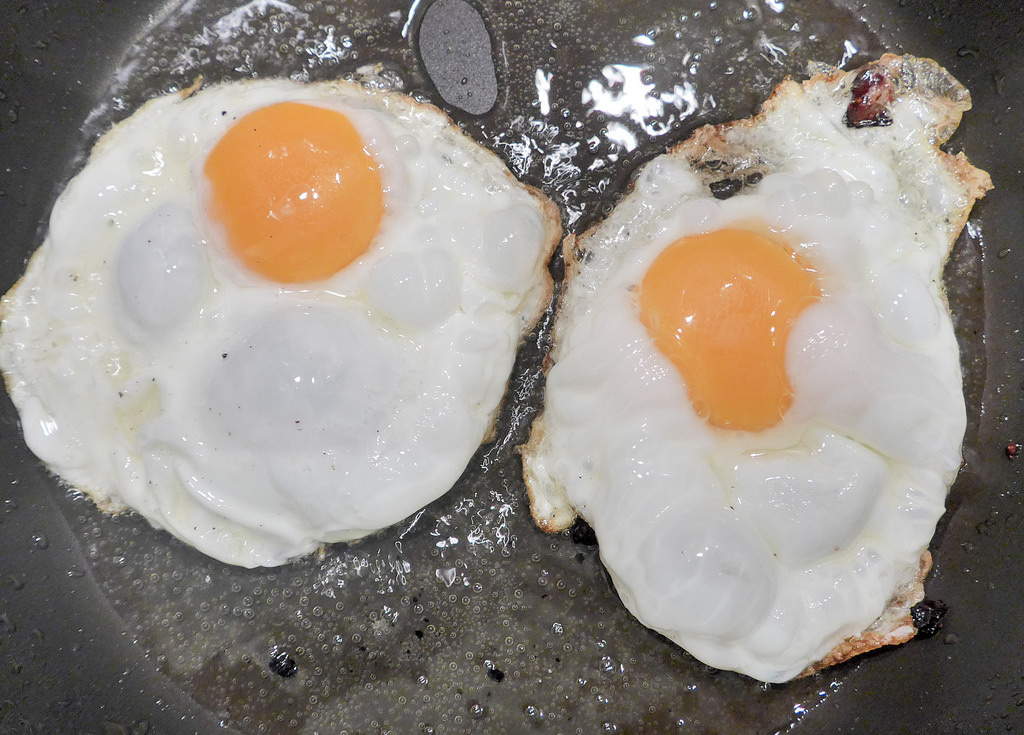fried egg: (27, 92, 509, 521), (599, 136, 914, 662)
